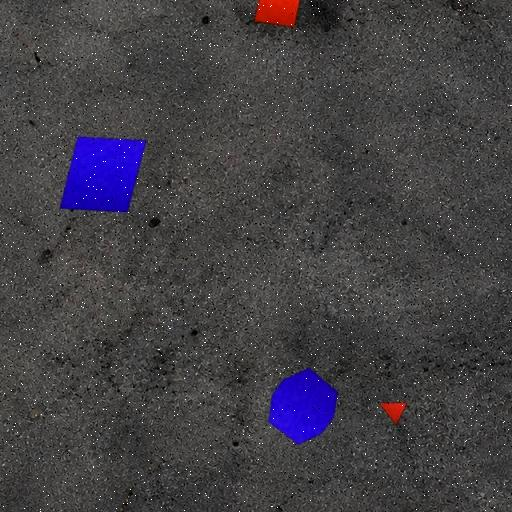BLUE_SQUARE: (60, 136, 146, 214)
RED_SQUARE: (254, 0, 302, 28)
